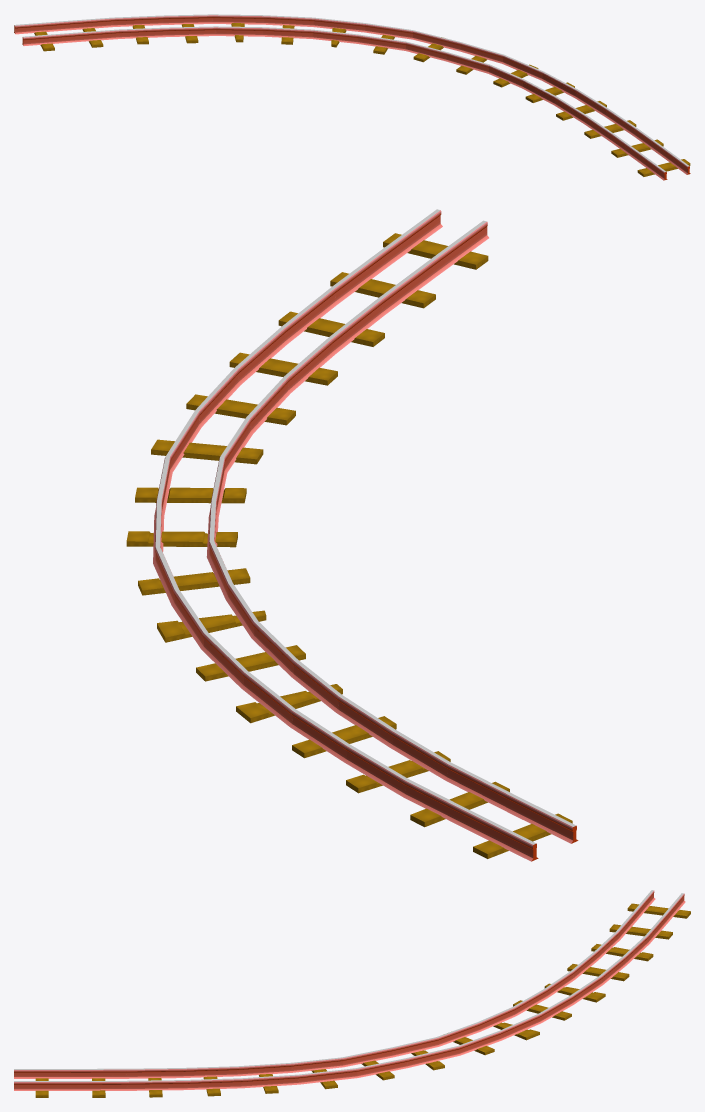
Rendered from Curve Rails Original.FBX.
The picture shows the model from 3 angles, top to bottom: view 1: azimuth 30°, elevation 25°; view 2: azimuth 150°, elevation 25°; view 3: azimuth 270°, elevation 25°; orthographic projection. The views are drawn at different scales.
Visible parts, largest first — view 1: Rail, Sleepers; view 2: Rail, Sleepers; view 3: Rail, Sleepers.
Boxes of the visible parts, box(x1,y1,x2,y2) form: Rail: box(14, 14, 690, 180); Sleepers: box(34, 23, 690, 176); Rail: box(153, 209, 578, 861); Sleepers: box(126, 233, 572, 858); Rail: box(14, 890, 685, 1090); Sleepers: box(35, 903, 690, 1097).
Size of the model in its own units: 923 by 22.45 by 1335.
